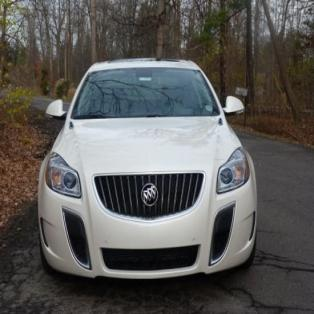Auto: (36, 53, 257, 278)
